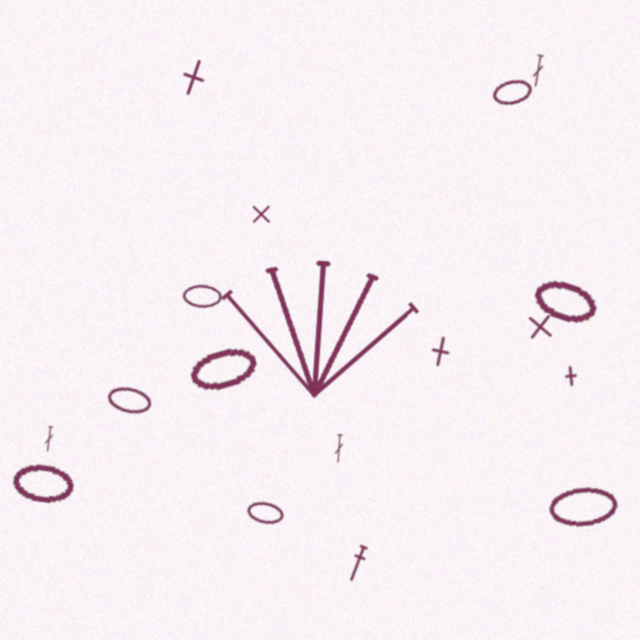chain: (528, 273, 603, 331), (185, 341, 261, 398), (547, 484, 620, 530), (10, 460, 77, 506), (105, 383, 154, 418), (490, 76, 534, 108), (245, 499, 285, 527), (182, 284, 222, 308)
double: (530, 54, 546, 88), (43, 426, 55, 452), (334, 434, 344, 463)
fan: (209, 234, 430, 406)
half_double: (344, 543, 370, 584)
single: (169, 53, 218, 102), (422, 333, 459, 370), (524, 310, 556, 343), (559, 364, 583, 388), (249, 202, 273, 226)
